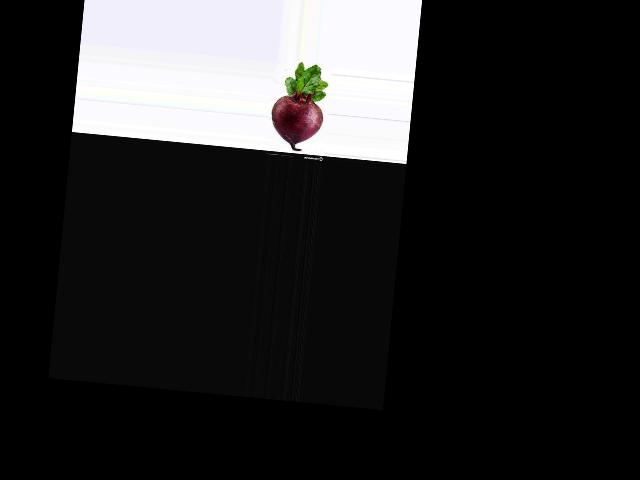beet: (267, 59, 329, 152)
